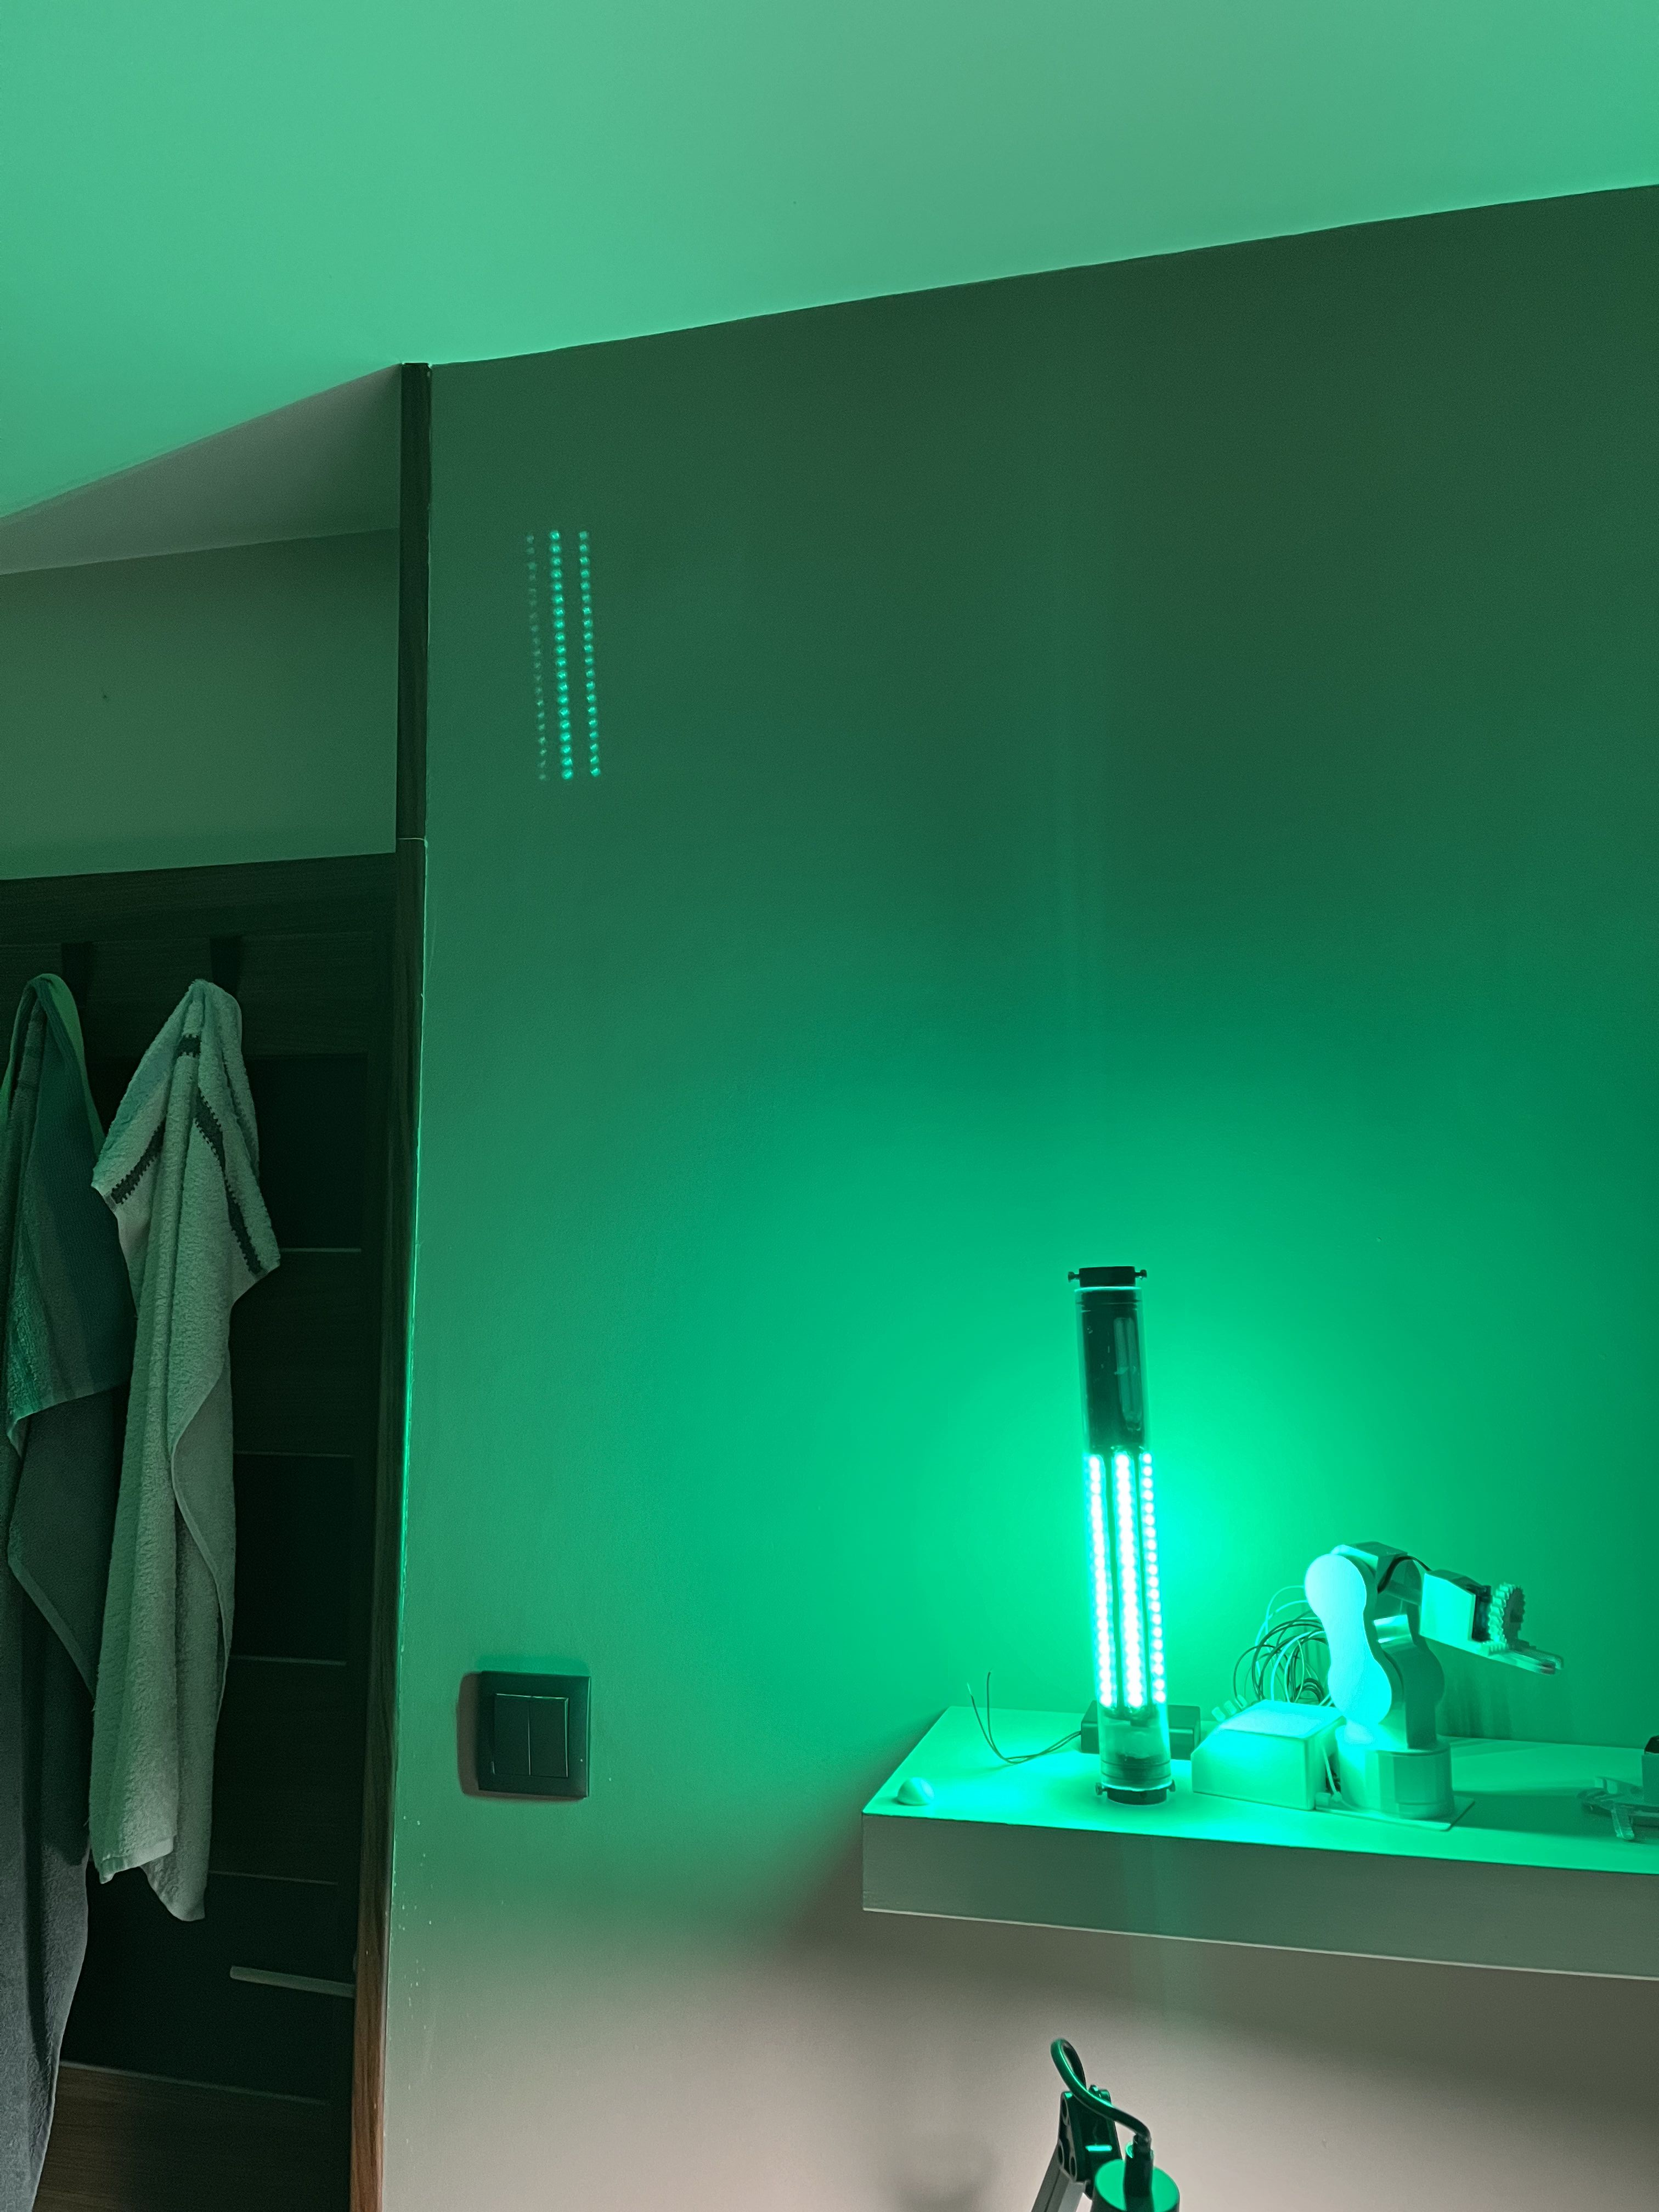green: (1075, 1285, 1176, 1801)
